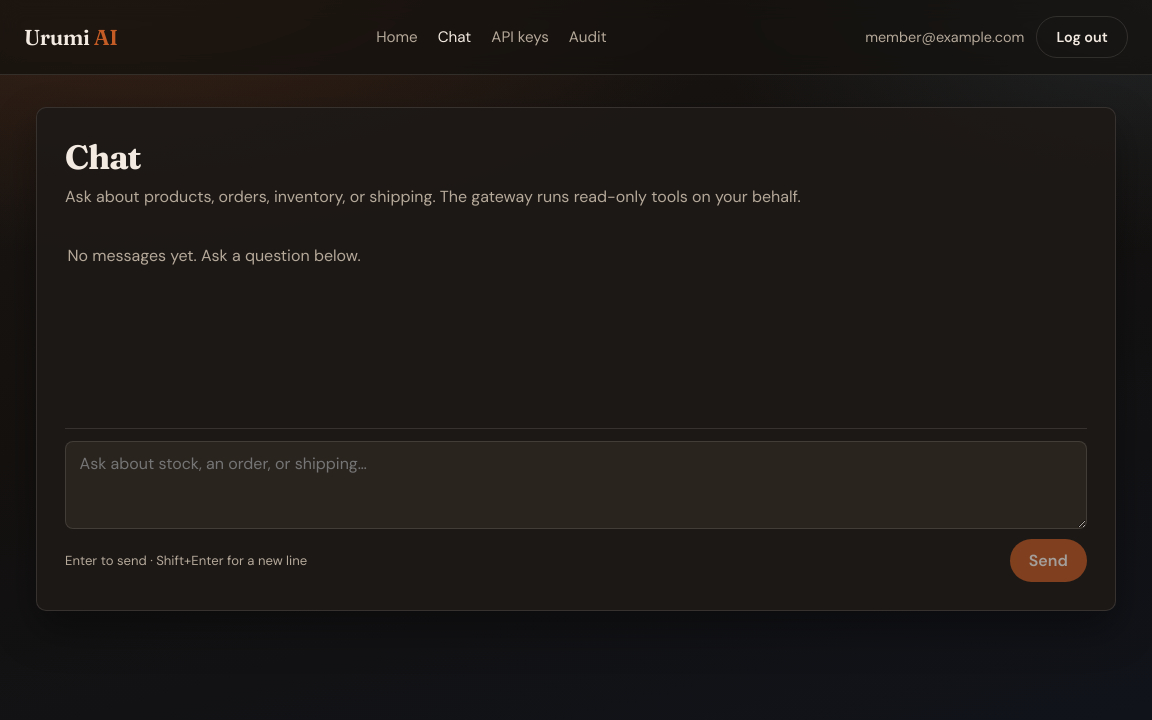
dashboard chat › shows loading and prevents duplicate submissions
Check: the heading "Chat" is shown, box [65, 136, 140, 178]
Type "hello" into the text box named "message".
click(576, 485); type("hello")  # box [65, 441, 1087, 529]
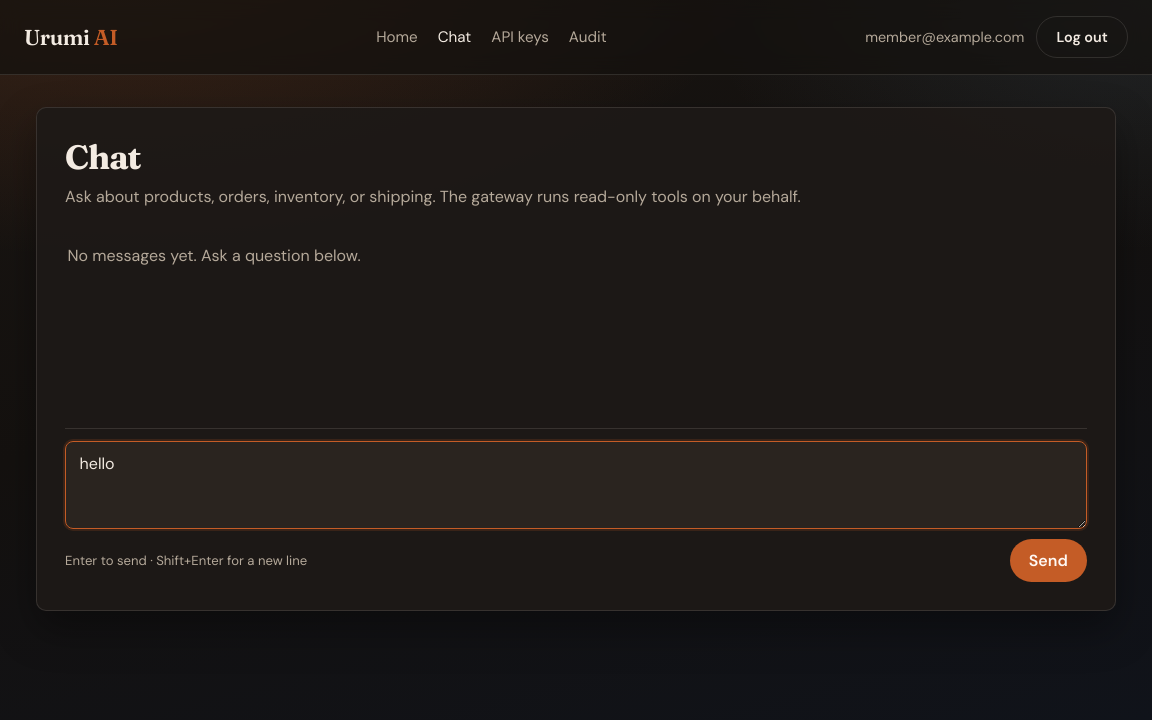
Click the button "Send".
click(1048, 561)  # box [1010, 539, 1087, 582]
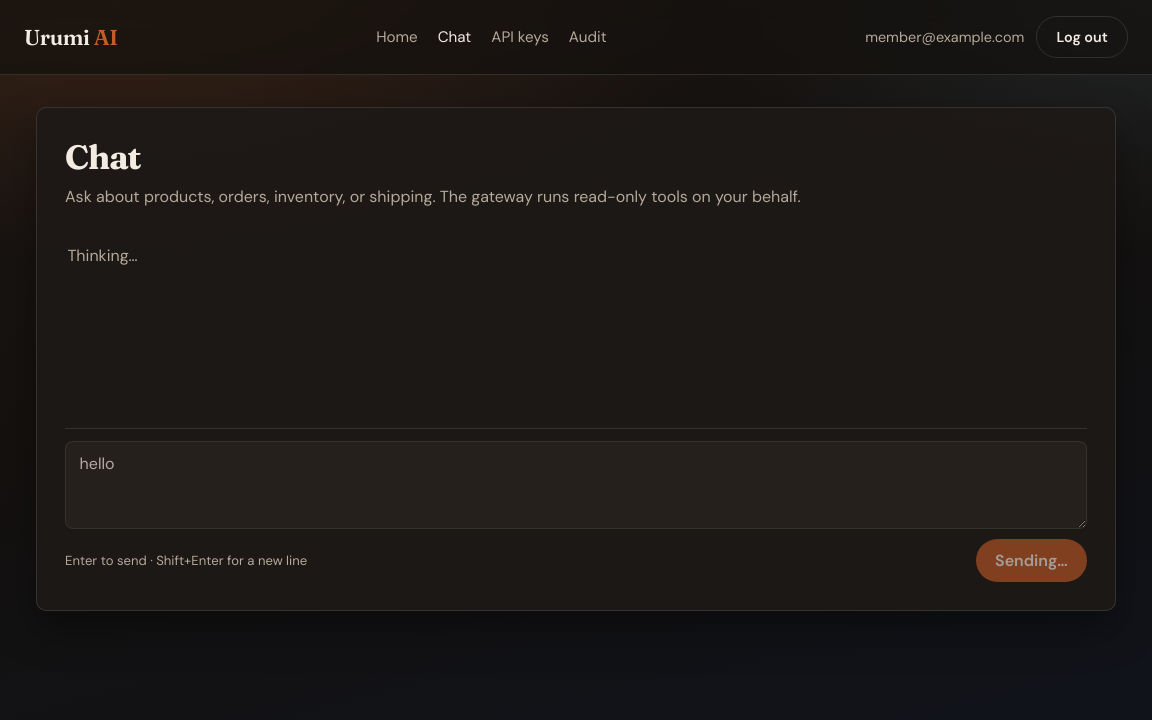
Check: the text "Thinking…" is shown, box [67, 245, 138, 266]
Check: the button "Sending…" is disabled
Check: the text box named "message" is disabled, box [65, 441, 1087, 529]
Click the button "Sending…".
click(1031, 561)  # box [976, 539, 1087, 582]
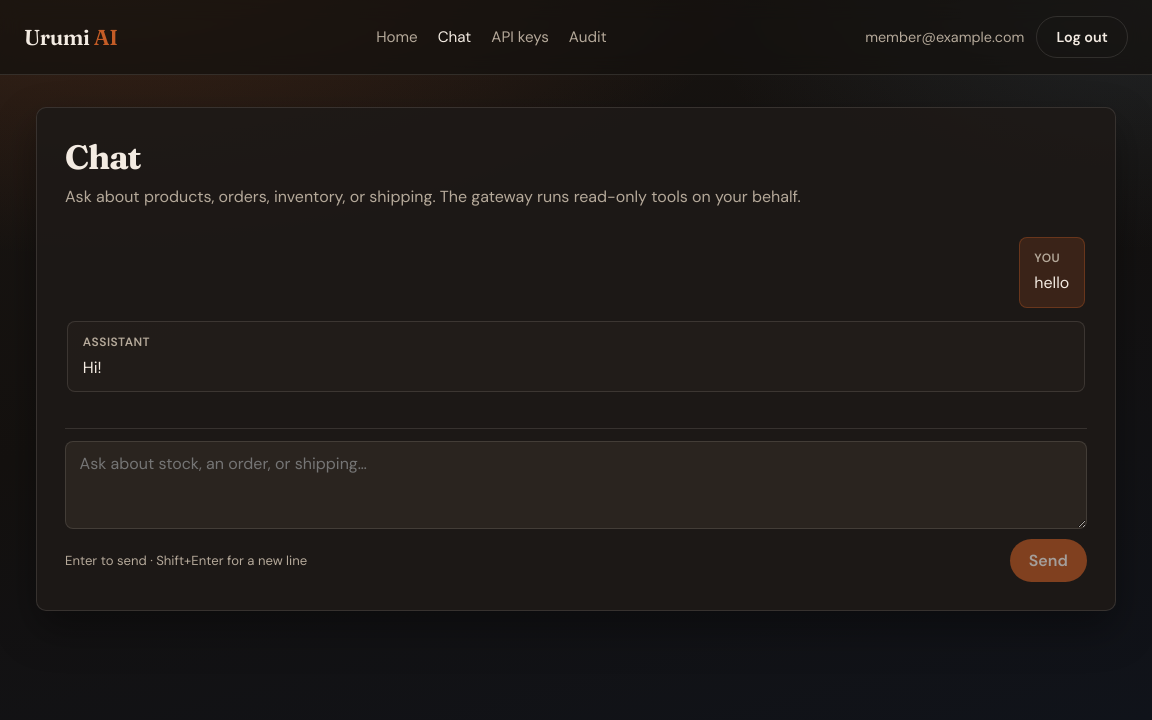
Check: the text "Hi!" is shown, box [83, 357, 102, 378]
